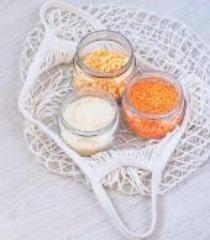glass: (59, 30, 186, 160)
